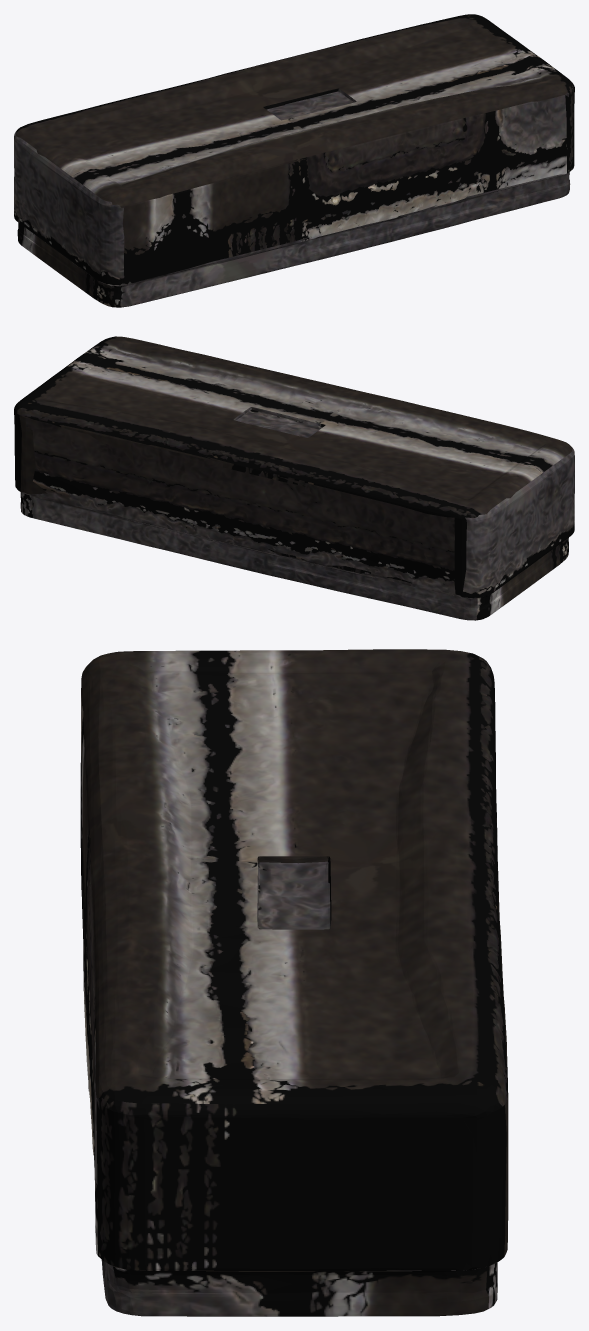
The model's file is amazon_eraser.obj.
3 renders of one model, top to bottom at view 1: azimuth 30°, elevation 25°; view 2: azimuth 150°, elevation 25°; view 3: azimuth 270°, elevation 25°, orthographic. The views are drawn at different scales.
Visible parts, largest first — view 1: geometry_0; view 2: geometry_0; view 3: geometry_0.
Boxes of the visible parts, bbox=[...] form: geometry_0: bbox=[14, 14, 574, 307]; geometry_0: bbox=[14, 336, 574, 620]; geometry_0: bbox=[80, 649, 508, 1316].
Size of the model in its own units: 0.1248 by 0.0292 by 0.049.
